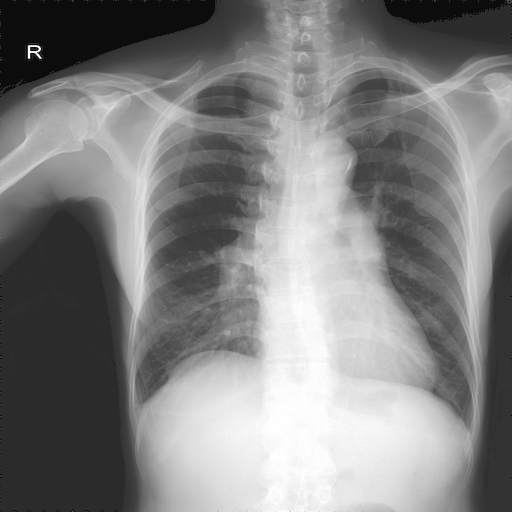Calcification: (134, 399, 147, 423)
Consolidation: (315, 137, 357, 175)
Lung Opacity: (344, 158, 353, 173)
Nodule/Mass: (251, 318, 438, 398)
Other lesion: (164, 349, 245, 384)
Pleural thickening: (164, 349, 245, 384)
